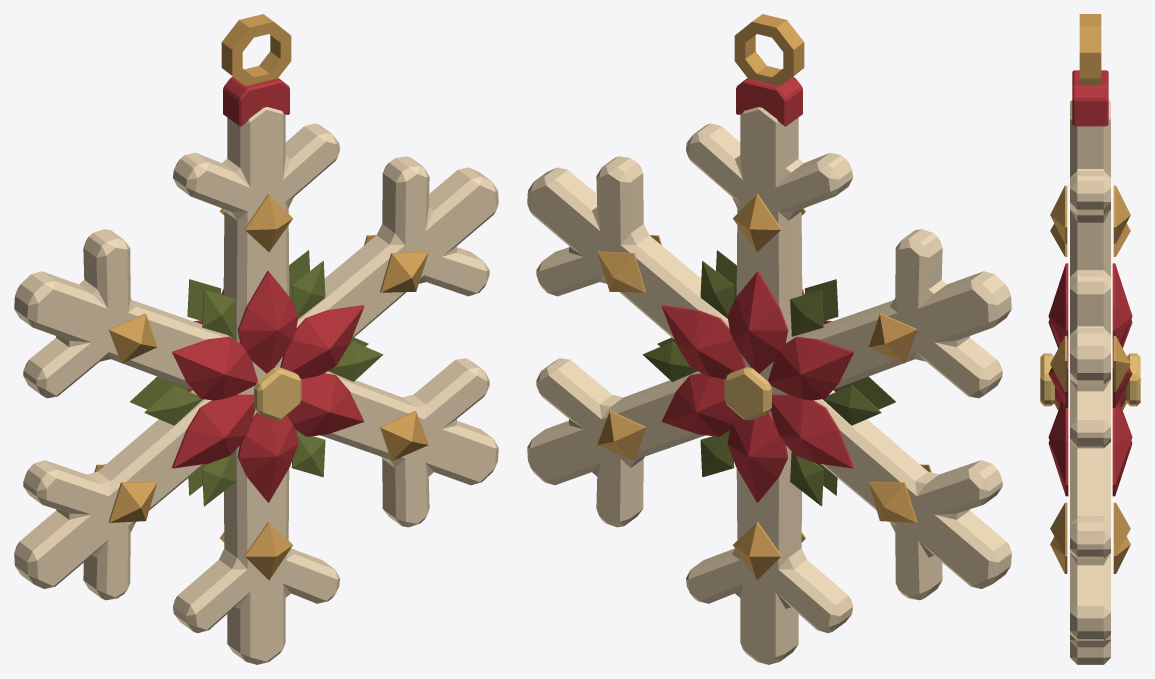
Rendered from 09 Snowflake Ornament.glb.
The picture shows the model from 3 angles, left to right: view 1: azimuth 30°, elevation 25°; view 2: azimuth 150°, elevation 25°; view 3: azimuth 270°, elevation 25°; orthographic projection.
Visible parts, largest first — view 1: Ivory snowflake arm 04; view 2: Ivory snowflake arm 04; view 3: Ivory snowflake arm 04.
Boxes of the visible parts, x1,y1,x2,y2 form: Ivory snowflake arm 04: (14, 14, 498, 664); Ivory snowflake arm 04: (527, 14, 1011, 664); Ivory snowflake arm 04: (1040, 14, 1140, 664).
Size of the model in its own units: 3.32 by 4.3 by 0.61.
